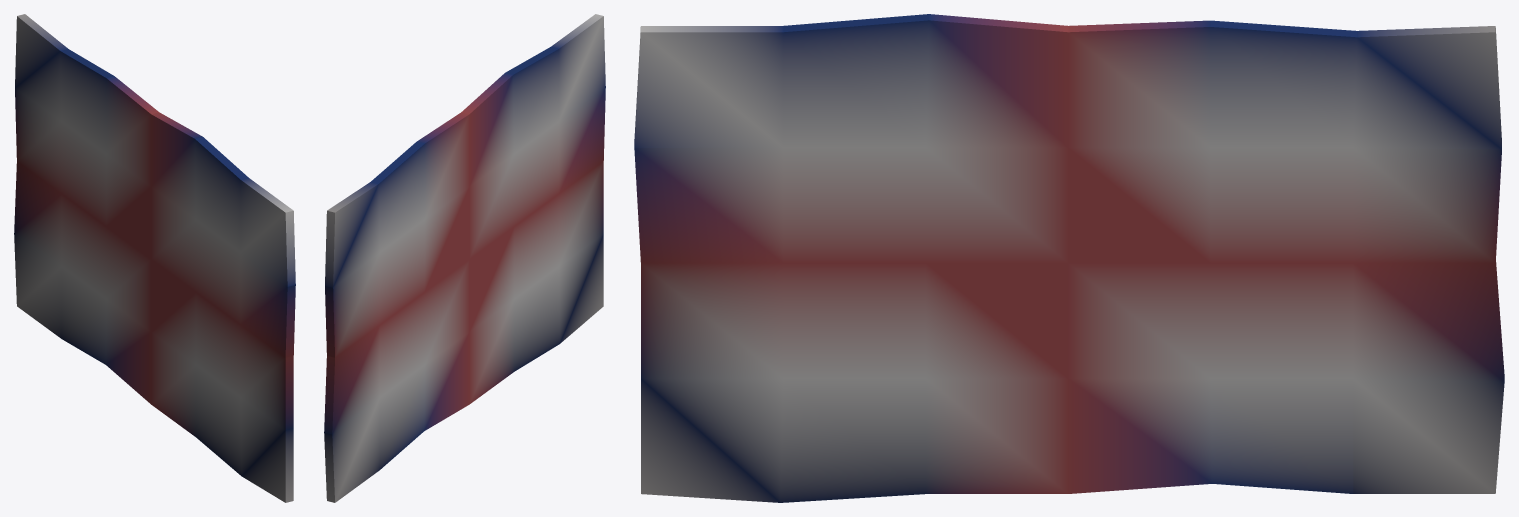
Rendered from SM_Flag_British_01.glb.
3 renders of one model, left to right at view 1: azimuth 30°, elevation 25°; view 2: azimuth 150°, elevation 25°; view 3: azimuth 270°, elevation 25°, orthographic. The views are drawn at different scales.
Parts seen in each view (by area): view 1: SM_Flag_British_01; view 2: SM_Flag_British_01; view 3: SM_Flag_British_01.
Boxes of the visible parts, bbox=[...] form: SM_Flag_British_01: bbox=[14, 14, 295, 502]; SM_Flag_British_01: bbox=[324, 14, 605, 502]; SM_Flag_British_01: bbox=[634, 14, 1504, 502].
Bounding box in the file's own units: 0.000403 × 0.0142 × 0.0232.
